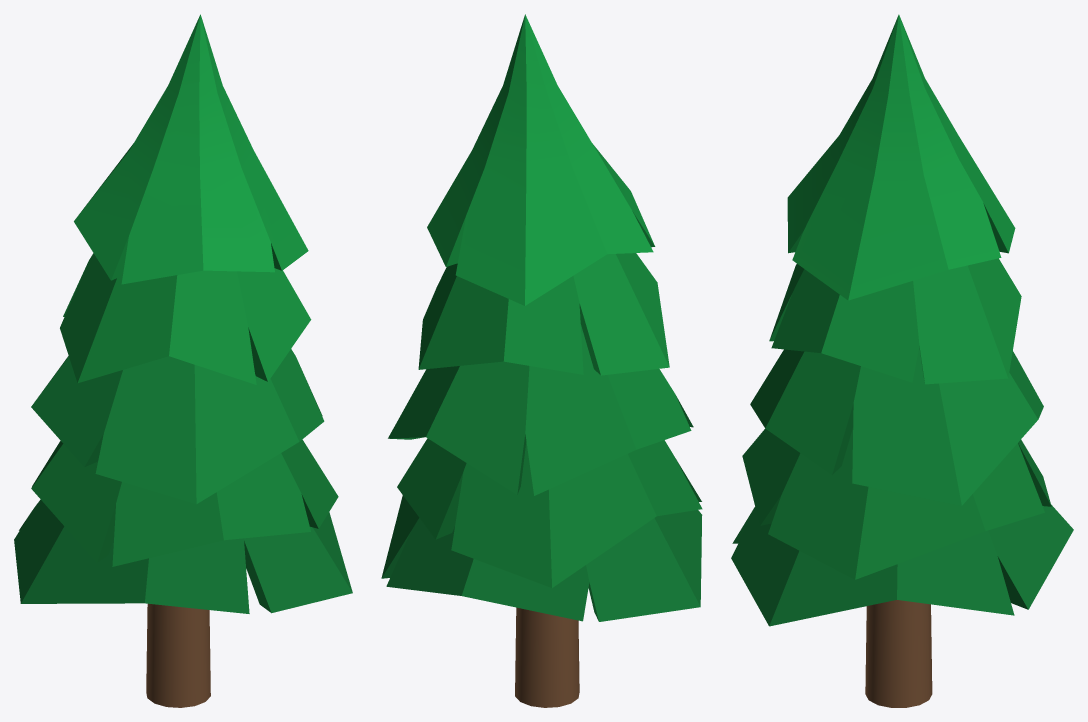
The model's file is Spruce_DarkGreen_1.fbx.
3 views of the same model, side by side, from view 1: azimuth 30°, elevation 25°; view 2: azimuth 150°, elevation 25°; view 3: azimuth 270°, elevation 25° (orthographic). The views are drawn at different scales.
Visible parts, largest first — view 1: Cylinder.041, Cylinder.042, Cylinder.043, Cylinder.045, Cylinder.044, Cylinder.046; view 2: Cylinder.041, Cylinder.042, Cylinder.044, Cylinder.043, Cylinder.045, Cylinder.046; view 3: Cylinder.041, Cylinder.042, Cylinder.044, Cylinder.043, Cylinder.045, Cylinder.046.
Boxes of the visible parts, box(x1,y1,x2,y2) form: Cylinder.041: box(74, 14, 308, 284); Cylinder.042: box(31, 349, 324, 504); Cylinder.043: box(60, 253, 311, 384); Cylinder.045: box(14, 499, 352, 613); Cylinder.044: box(31, 439, 338, 566); Cylinder.046: box(146, 603, 210, 707); Cylinder.041: box(427, 14, 655, 305); Cylinder.042: box(388, 324, 693, 495); Cylinder.044: box(397, 438, 702, 587); Cylinder.043: box(418, 253, 669, 375); Cylinder.045: box(381, 495, 702, 621); Cylinder.046: box(515, 607, 579, 707); Cylinder.041: box(787, 14, 1015, 300); Cylinder.042: box(750, 347, 1043, 505); Cylinder.044: box(742, 427, 1051, 579); Cylinder.043: box(769, 258, 1021, 384); Cylinder.045: box(731, 504, 1073, 626); Cylinder.046: box(865, 600, 932, 707).
Size of the model in its own units: 265 by 567 by 255.
